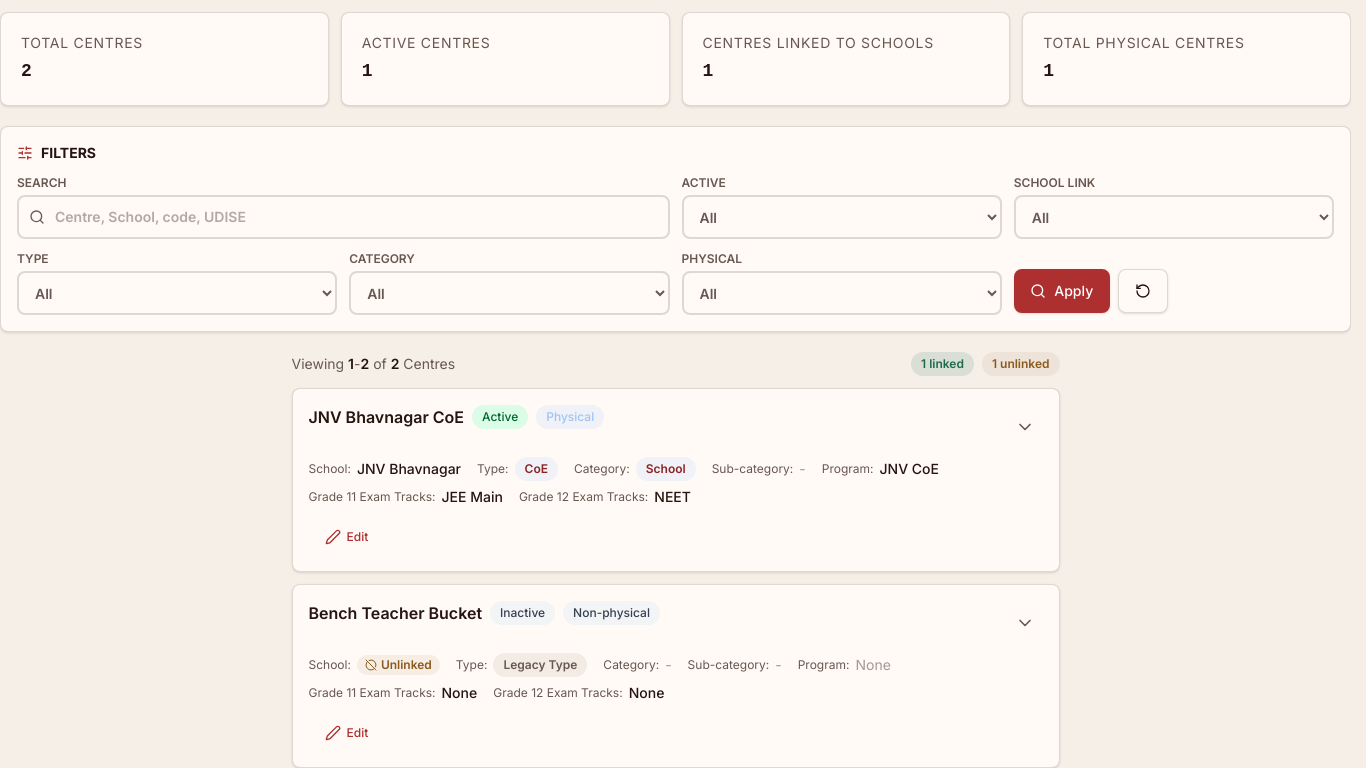
CentreGrid › keeps an existing inactive option visible when editing that Centre
The image size is (1366, 768).
(page scrolled)
Click the button "Edit" below "Legacy Type": (346,733) [308, 715, 384, 751]
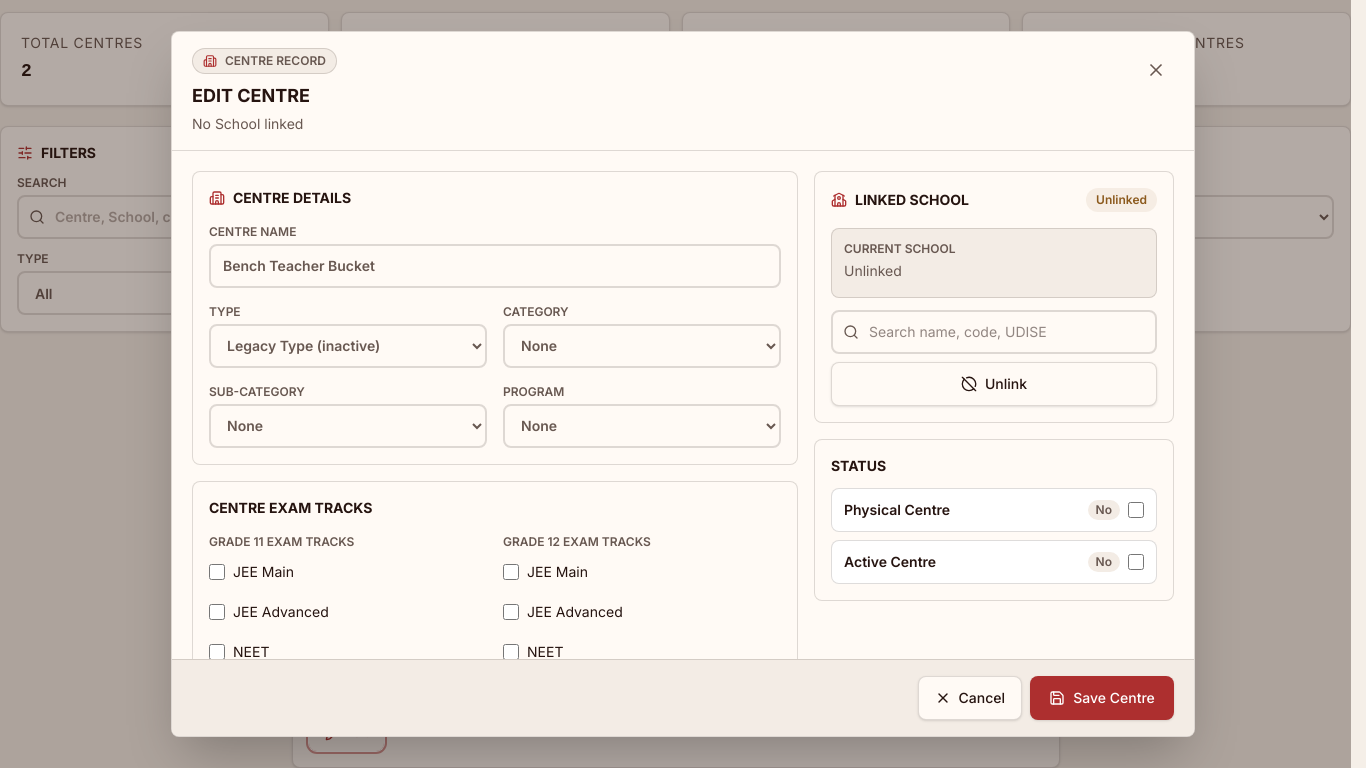
Now the dropdown labelled "Type" shows "Legacy Type (inactive)", box [209, 324, 487, 368]
